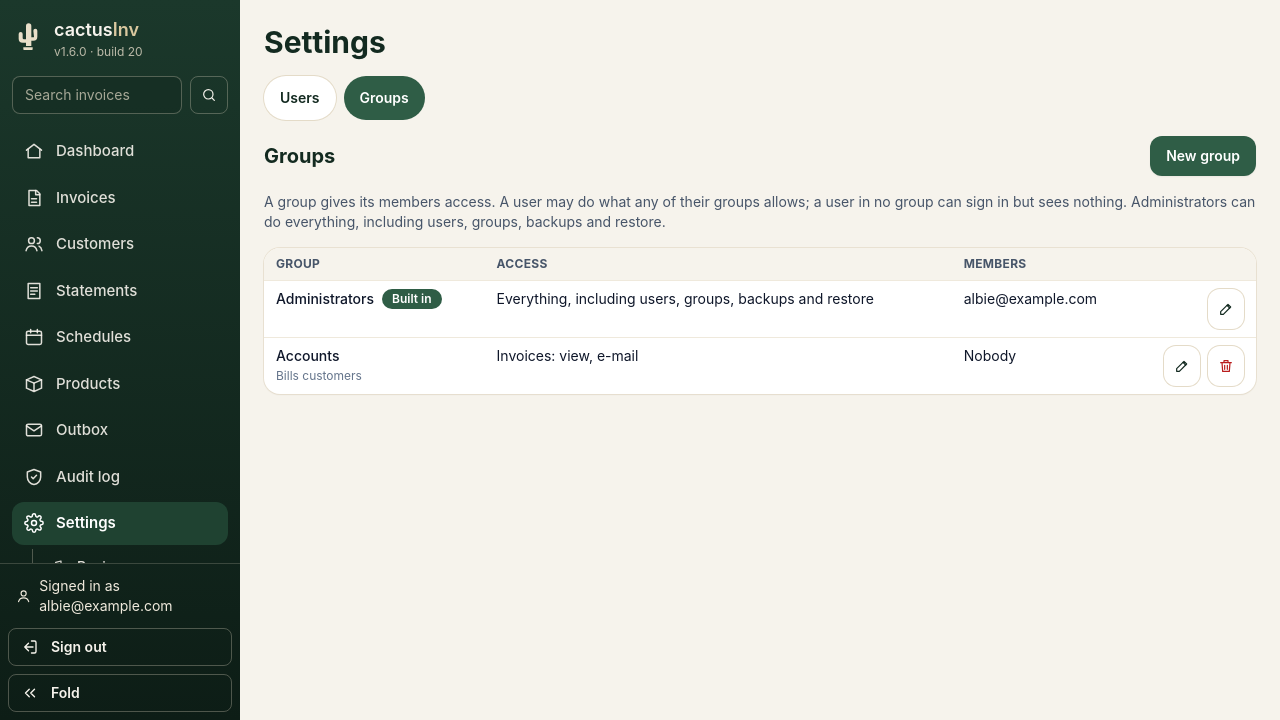
Administrators: only members change, and you cannot remove yourself
Click the button named "Edit Administrators": point(1226, 309) [1208,289,1244,329]
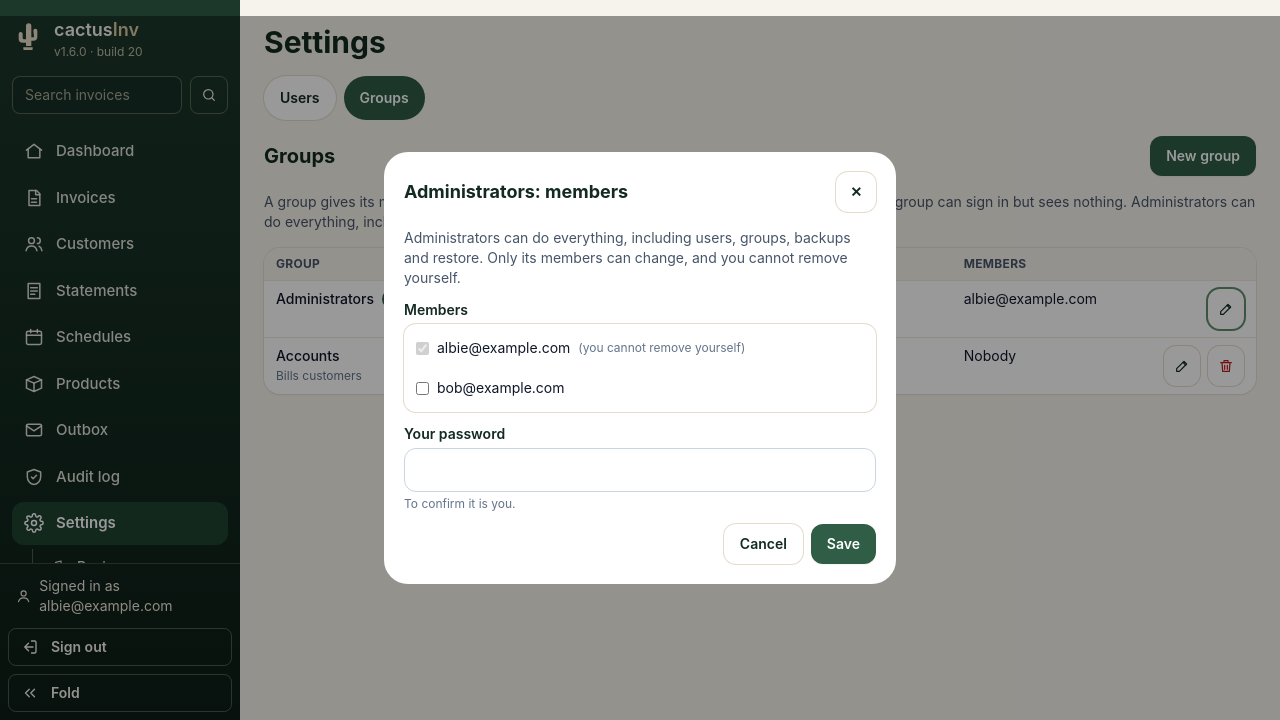
Result: the checkbox labelled "albie@example.com (you cannot remove yourself)" is disabled at [416,342,429,354]
Click the checkbox labelled "bob@example.com": point(422, 388) [416,382,429,394]
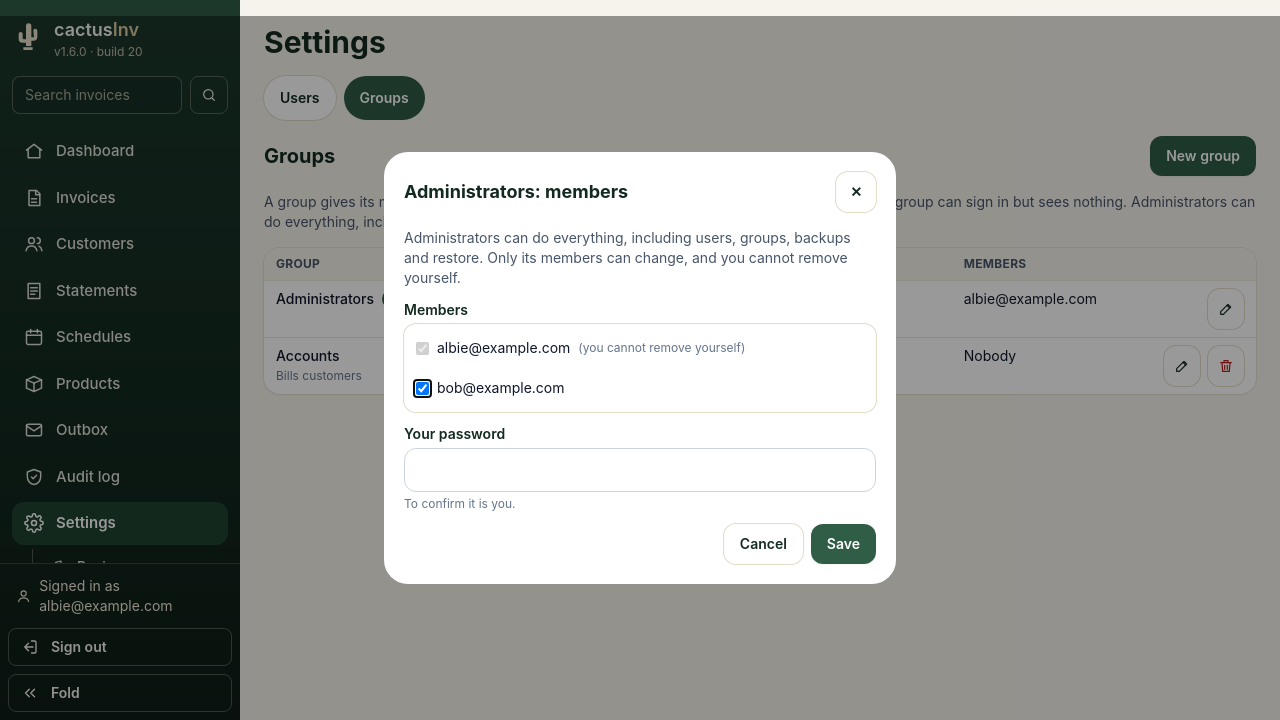
In the password field labelled "Your password": point(640, 470) [404,448,876,492], type "correct horse battery"
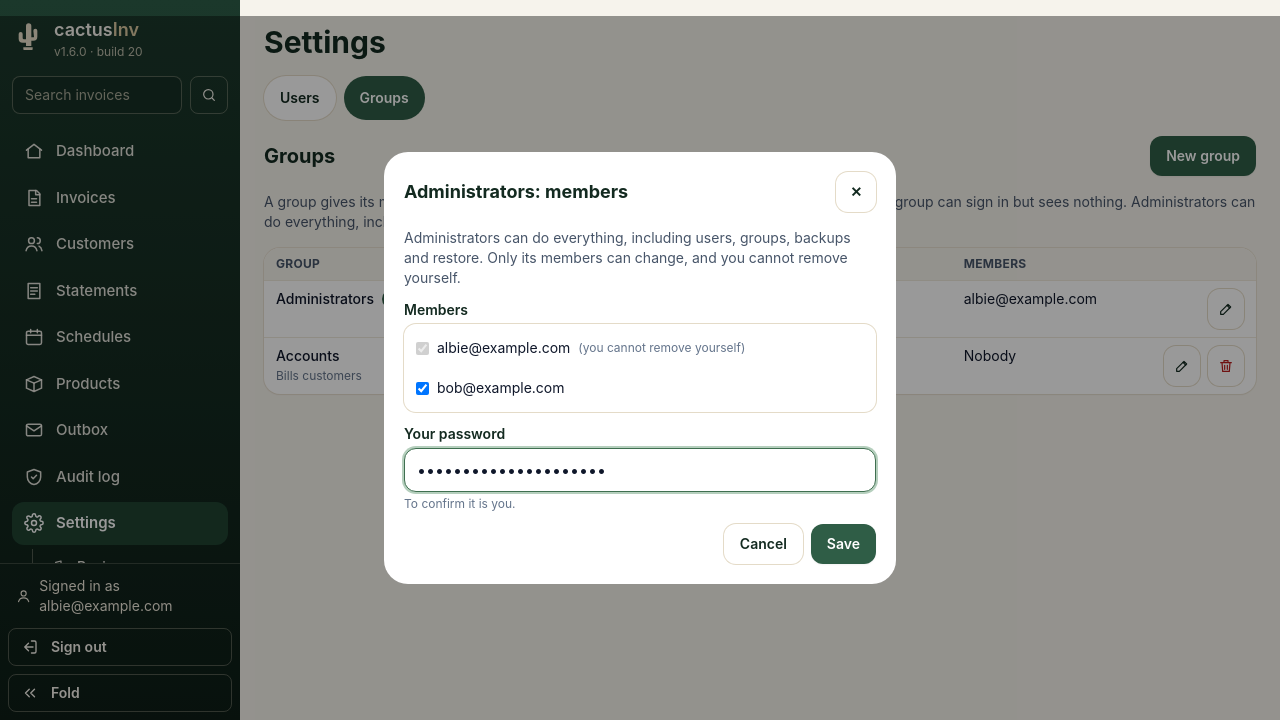
Click the button "Save": point(843, 544) [811,524,876,564]
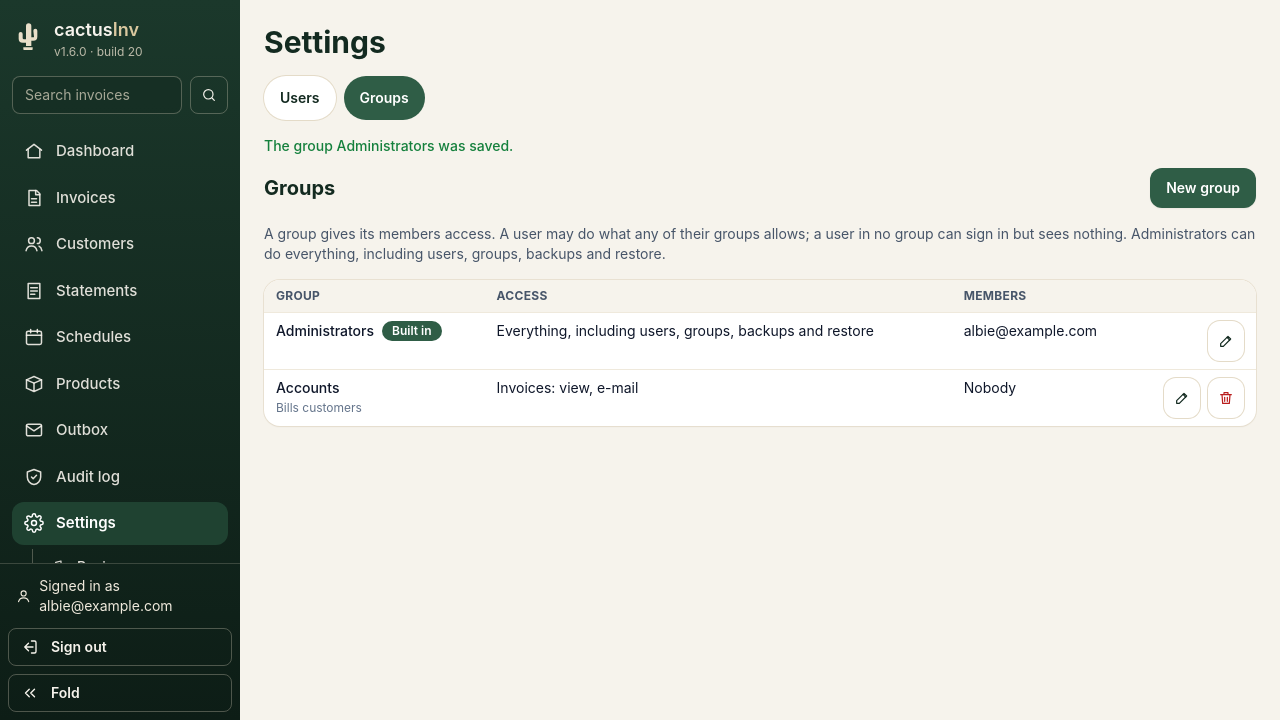
Result: the text "The group Administrators was saved." is shown at [264,137,513,154]
